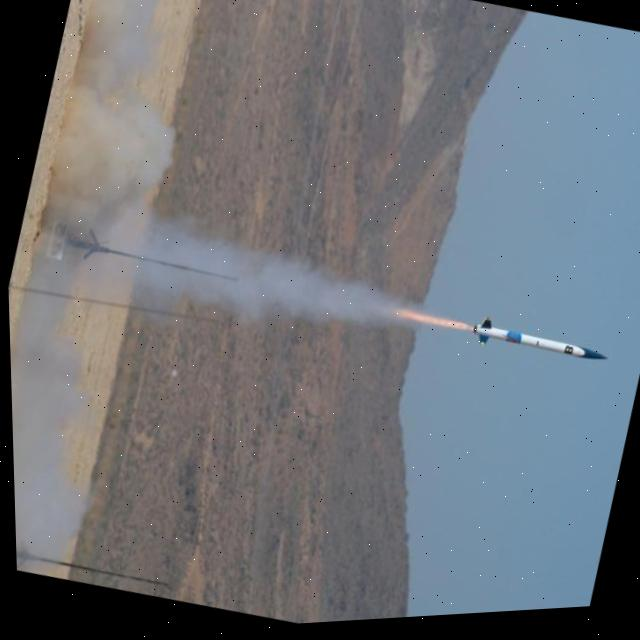missile: (465, 309, 608, 391)
